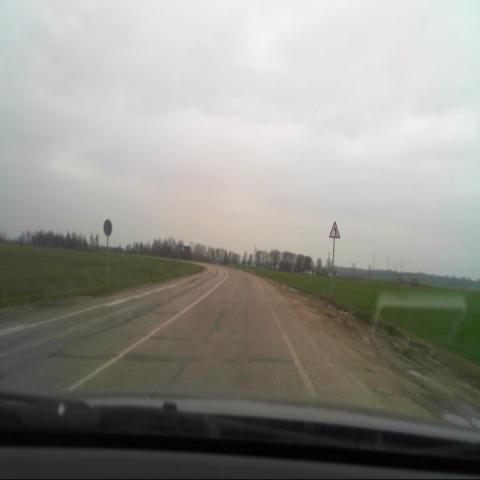1_11_1: (329, 221, 340, 238)
